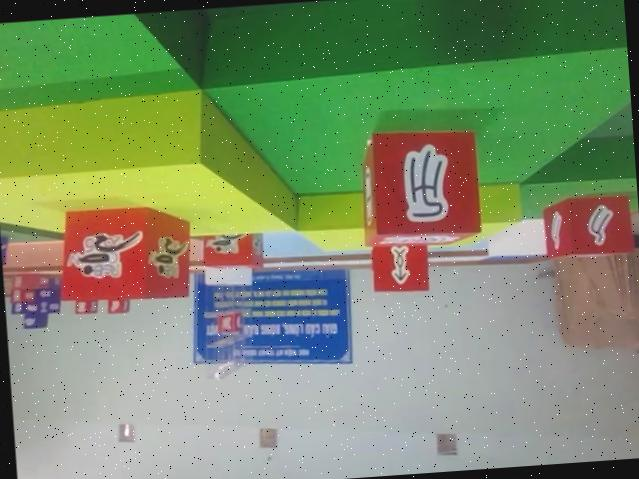R1: (50, 201, 195, 305), (196, 225, 265, 272)
R2 Fake: (359, 120, 483, 249)
R2 Real: (539, 193, 634, 256), (369, 240, 426, 295)
